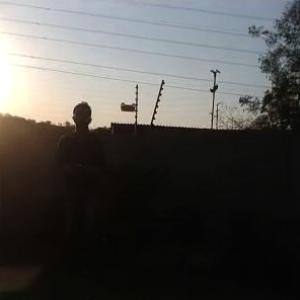follow: (49, 97, 108, 280)
